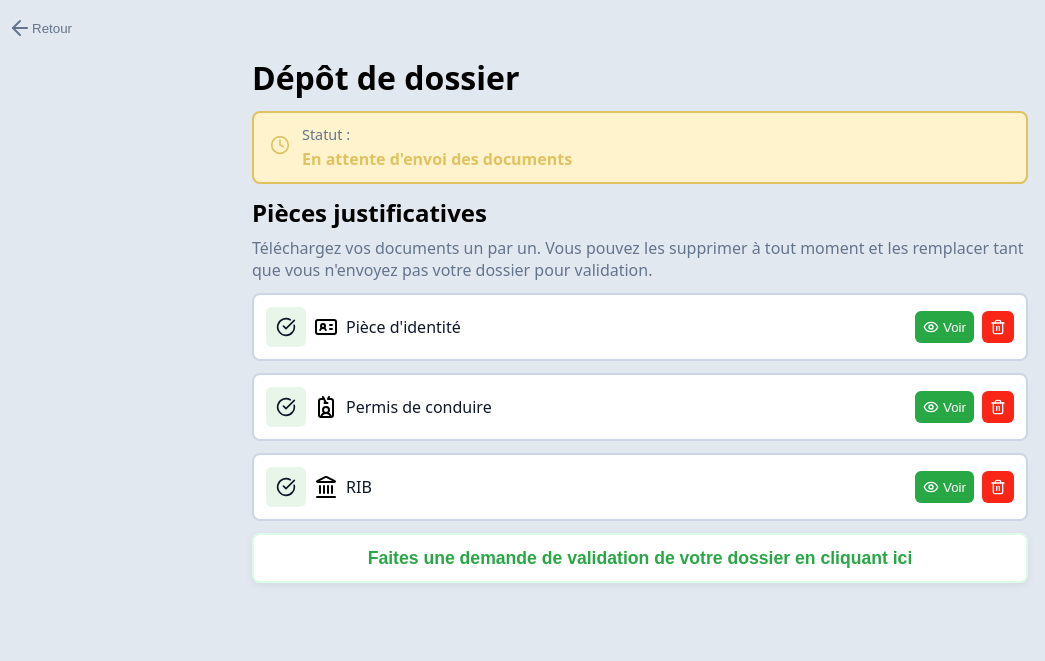
Test: FolderToCompleteComponent › should handle submission error
The image size is (1045, 661).
Click the button "Faites une demande de validation".
click(640, 558)  # box [252,533,1028,583]
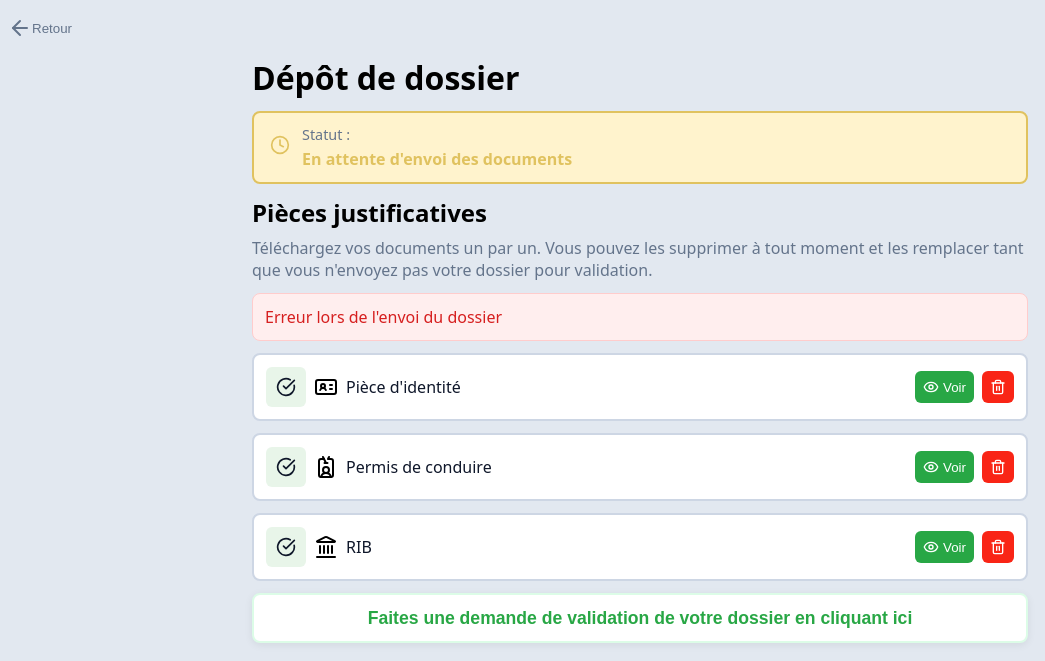
Expected: the text "Erreur lors de l'envoi du dossier" is shown, [252,293,1028,341]
